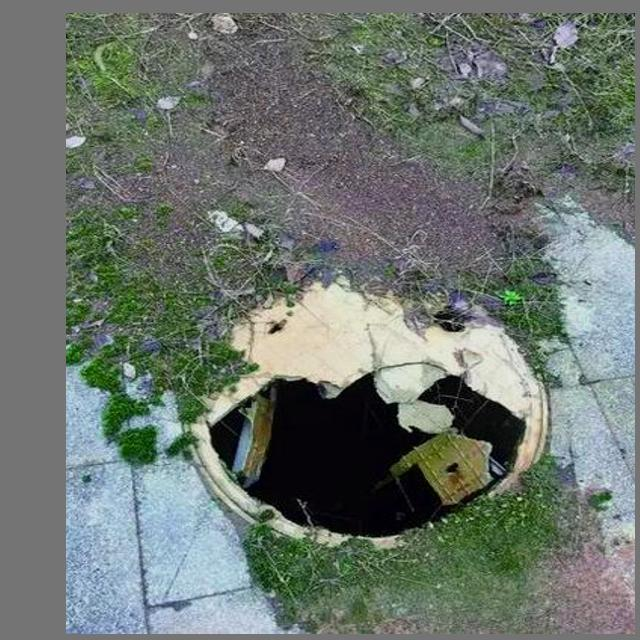broke: (150, 267, 587, 559)
